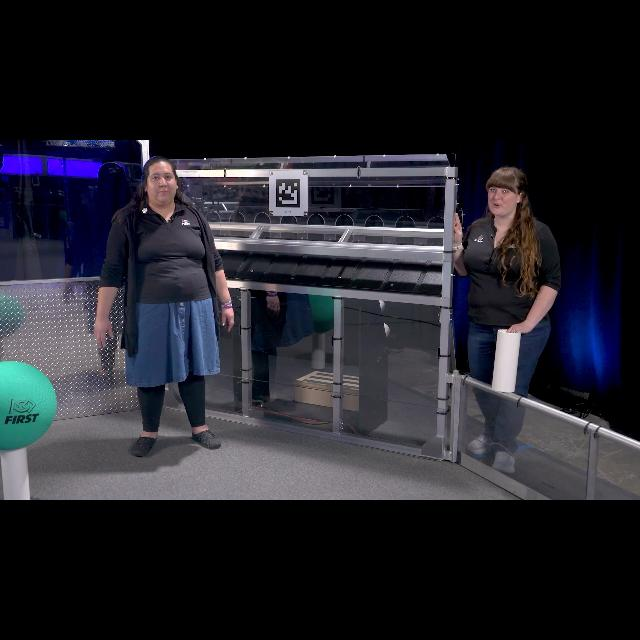ALGAE: (0, 361, 56, 451)
CORAL: (491, 329, 522, 393), (1, 448, 32, 500)
